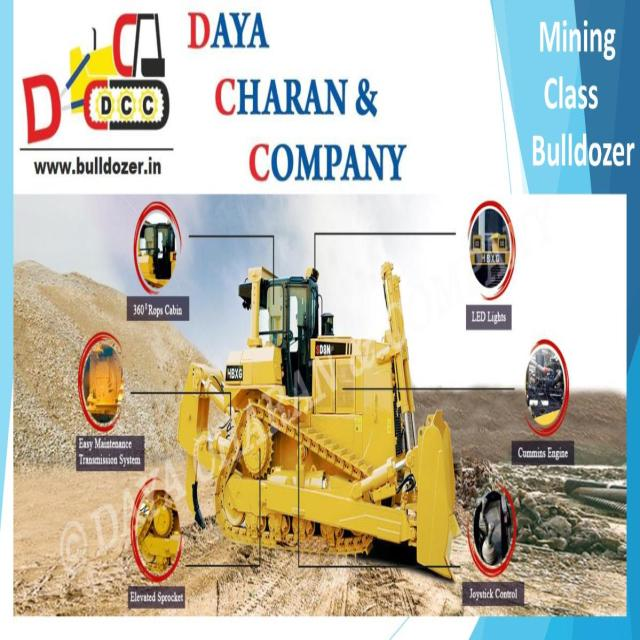buldozerpayloadergrader: (172, 233, 480, 590)
